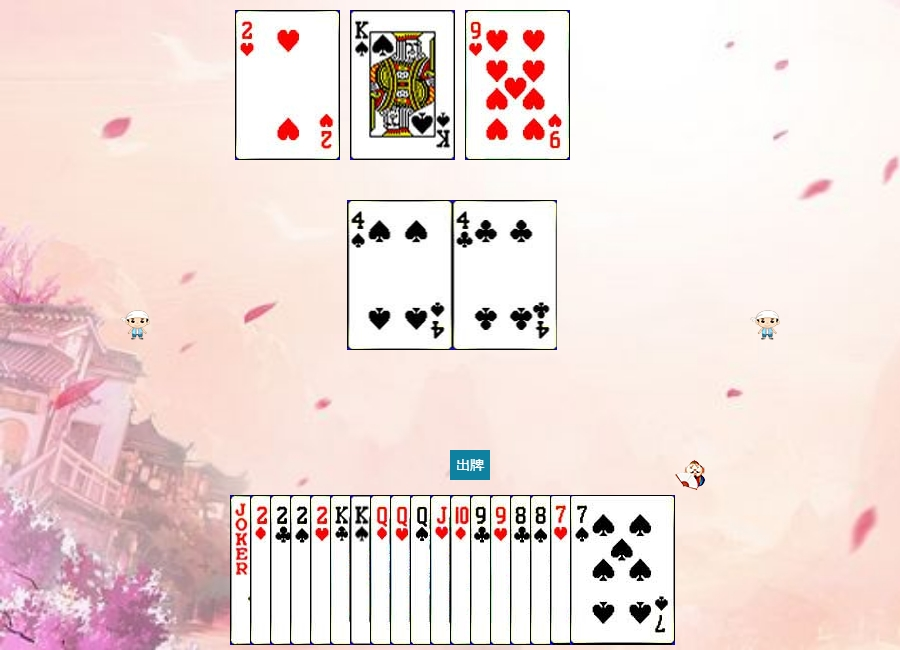10~1: (450, 495, 555, 645)
11~3: (430, 495, 535, 645)
12~1: (370, 495, 475, 645)
12~3: (390, 495, 495, 645)
12~4: (410, 495, 515, 645)
13~2: (330, 495, 435, 645)
13~4: (350, 10, 455, 160), (350, 495, 455, 645)
15~1: (250, 495, 355, 645)
15~2: (270, 495, 375, 645)
15~3: (235, 10, 340, 160), (310, 495, 415, 645)
15~4: (290, 495, 395, 645)
18~4: (230, 495, 335, 645)
4~2: (453, 200, 558, 350)
4~4: (348, 200, 453, 350)
7~3: (550, 495, 655, 645)
7~4: (570, 495, 675, 645)
8~2: (510, 495, 615, 645)
8~4: (530, 495, 635, 645)
9~2: (470, 495, 575, 645)
9~3: (465, 10, 570, 160), (490, 495, 595, 645)
